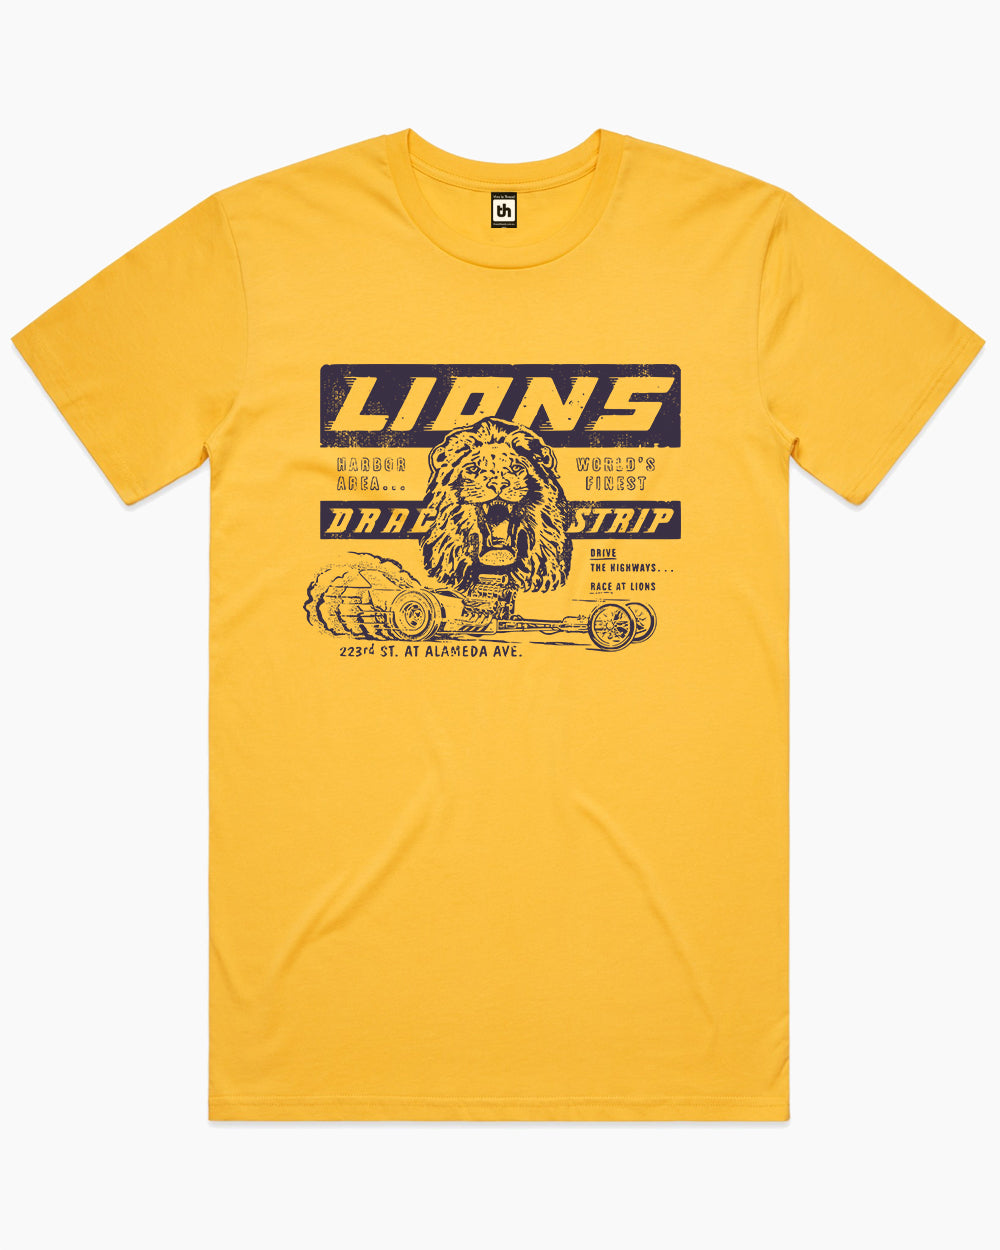design: (297, 359, 689, 663)
